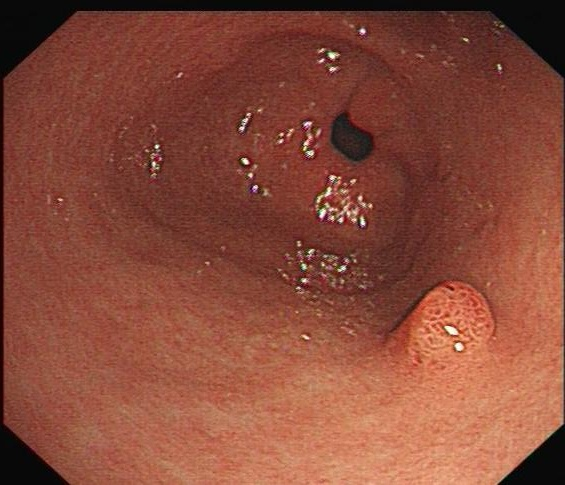Polyp: (390, 273, 499, 374)
